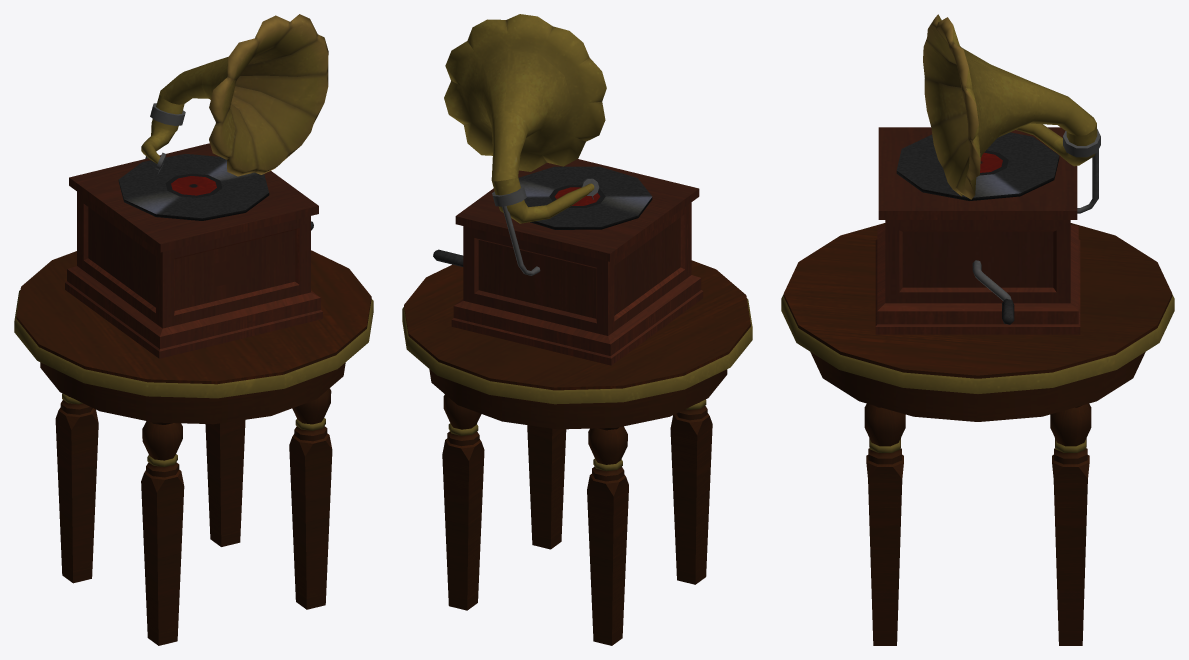
File: gramo.fbx
The picture shows the model from 3 angles, left to right: view 1: azimuth 30°, elevation 25°; view 2: azimuth 150°, elevation 25°; view 3: azimuth 270°, elevation 25°; orthographic projection. The views are drawn at different scales.
Visible parts, largest first — view 1: Table, Gramophone, Altaveu, Disco; view 2: Table, Gramophone, Altaveu, Disco; view 3: Table, Gramophone, Altaveu, Disco, Manivela.
Part boxes in pixels (x1,y1,x2,y2): Table: (14,250,373,645); Gramophone: (65,143,322,358); Altaveu: (141,14,328,176); Disco: (118,153,269,220); Table: (402,260,752,645); Gramophone: (451,159,703,365); Altaveu: (444,14,606,275); Disco: (518,166,652,229); Table: (781,223,1174,645); Gramophone: (875,127,1080,334); Altaveu: (923,14,1100,213); Disco: (896,132,1059,200); Manivela: (972,260,1014,324).
Size of the model in its own units: 423 by 730 by 423.
